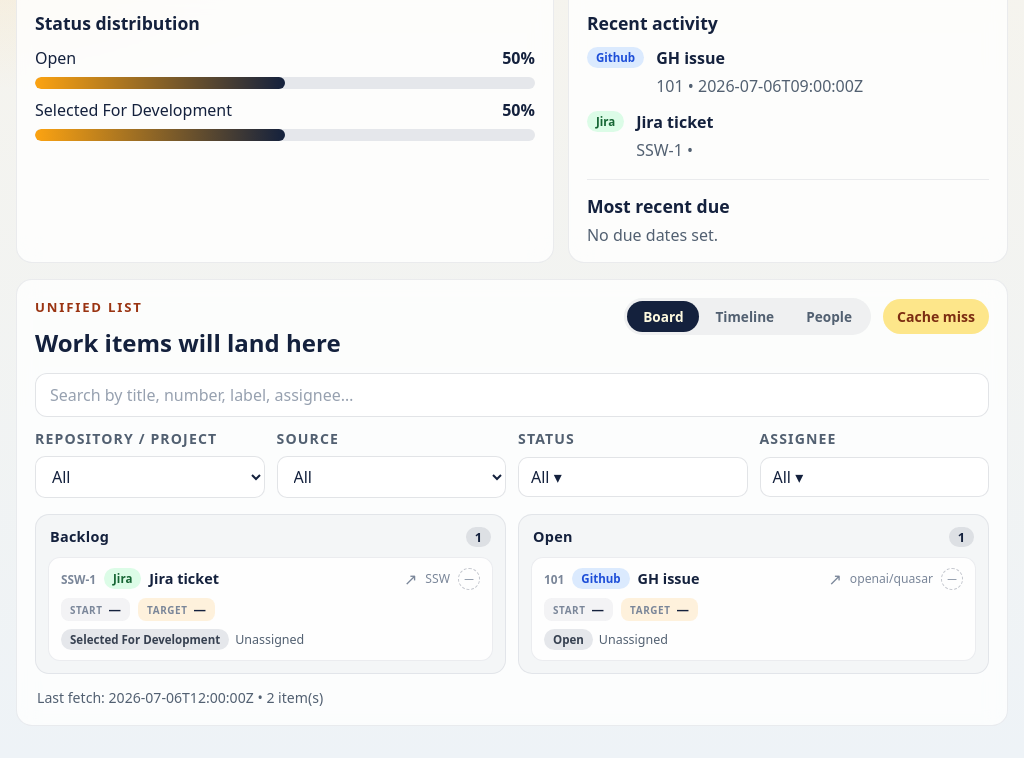
Test: App shell › offers a combined repo+project list when Source is All and filters by container
(page scrolled)
Check: the button "GH issue" is shown, box [638,570,820,588]
// Selecting the Jira project hides the GitHub item.
Select "SSW (Jira)" in the dropdown labelled "Repository / Project" at {"x": 150, "y": 477}, box [35,456,264,498]
(page scrolled)
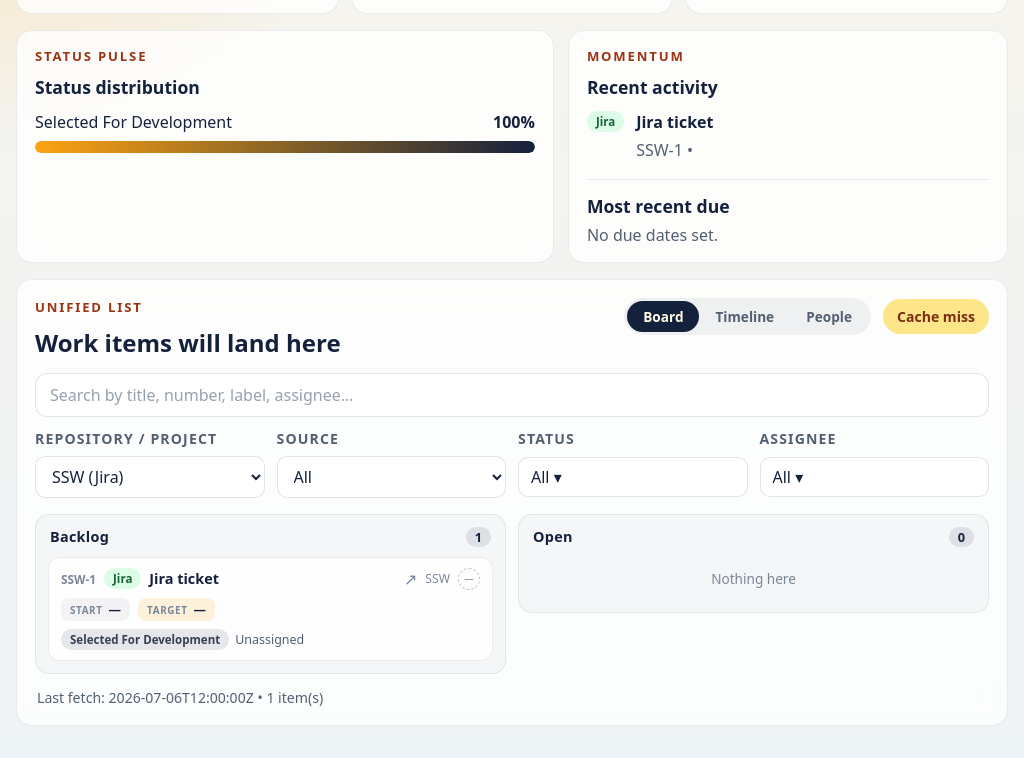
Check: the button "Jira ticket" is shown, box [149,570,396,588]
Check: the text "GH issue" is gone
